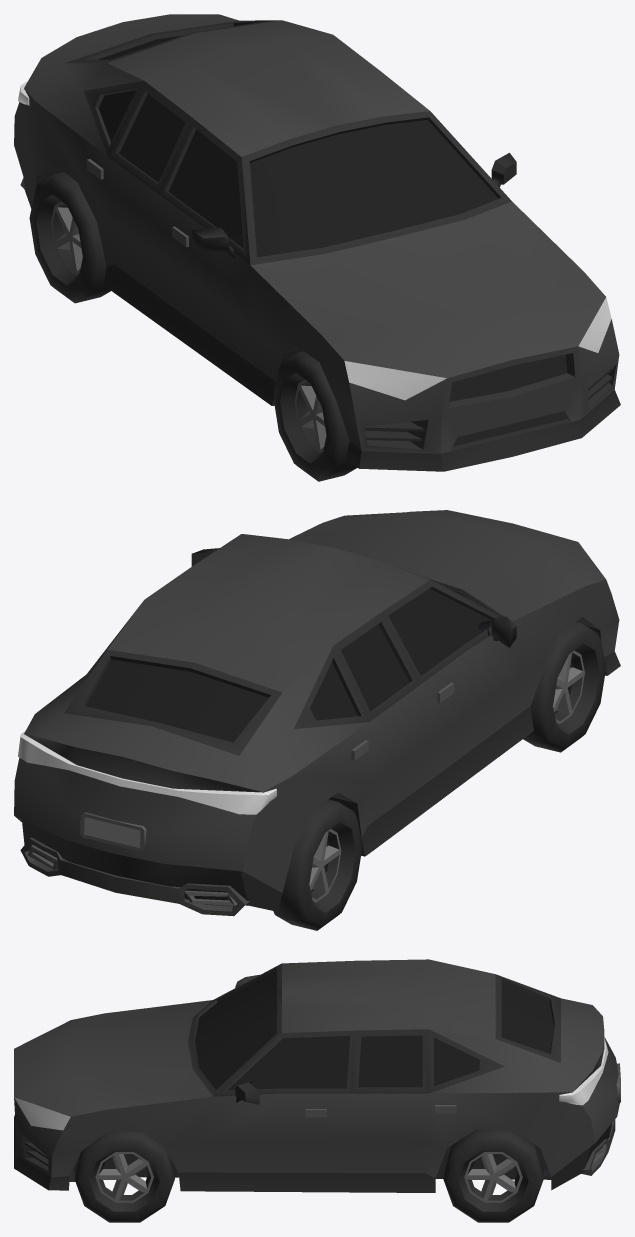
File: coupe-split.fbx
The picture shows the model from 3 angles, top to bottom: view 1: azimuth 30°, elevation 25°; view 2: azimuth 150°, elevation 25°; view 3: azimuth 270°, elevation 25°; orthographic projection. The views are drawn at different scales.
Visible parts, largest first — view 1: Body, PartHood, PartBumperF, PartDoorL, WheelRL, WheelFL, PartTrunk, PartMirrorL; view 2: Body, PartHood, PartTrunk, PartBumperR, PartDoorL, WheelRL, WheelFL, PartBumperF, PartMirrorL; view 3: Body, PartDoorR, PartHood, WheelRR, WheelFR, PartTrunk, PartBumperF, PartBumperR, PartMirrorR.
Boxes of the visible parts, bbox=[...] form: Body: bbox=[14, 14, 605, 418]; PartHood: bbox=[250, 198, 583, 381]; PartBumperF: bbox=[336, 297, 620, 471]; PartDoorL: bbox=[108, 152, 268, 376]; WheelRL: bbox=[29, 172, 110, 303]; WheelFL: bbox=[273, 351, 357, 481]; PartTrunk: bbox=[20, 20, 280, 105]; PartMirrorL: bbox=[191, 227, 229, 251]; Body: bbox=[14, 510, 619, 892]; PartHood: bbox=[289, 511, 611, 676]; PartTrunk: bbox=[35, 604, 332, 801]; PartBumperR: bbox=[14, 781, 282, 916]; PartDoorL: bbox=[368, 625, 522, 825]; WheelRL: bbox=[273, 799, 362, 930]; WheelFL: bbox=[523, 622, 606, 752]; PartBumperF: bbox=[600, 620, 620, 675]; PartMirrorL: bbox=[491, 616, 516, 647]; Body: bbox=[14, 959, 619, 1192]; PartDoorR: bbox=[192, 1087, 428, 1172]; PartHood: bbox=[63, 1000, 217, 1145]; WheelRR: bbox=[443, 1129, 543, 1222]; WheelFR: bbox=[74, 1131, 174, 1222]; PartTrunk: bbox=[430, 974, 571, 1100]; PartBumperF: bbox=[14, 1097, 81, 1190]; PartBumperR: bbox=[551, 1067, 620, 1190]; PartMirrorR: bbox=[235, 1082, 259, 1104].
Bounding box in the file's own units: 235 × 174 × 514.
